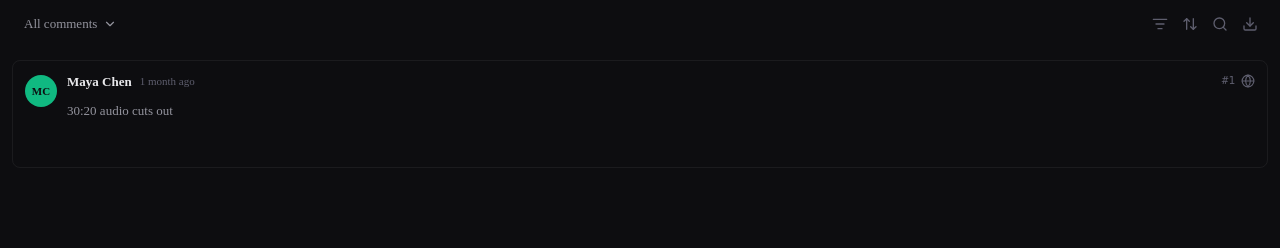
a failed comment export › shows the reason in the panel instead of the console
Click the button titled "Export comments" at (1250, 24), box [1236,10,1264,38]
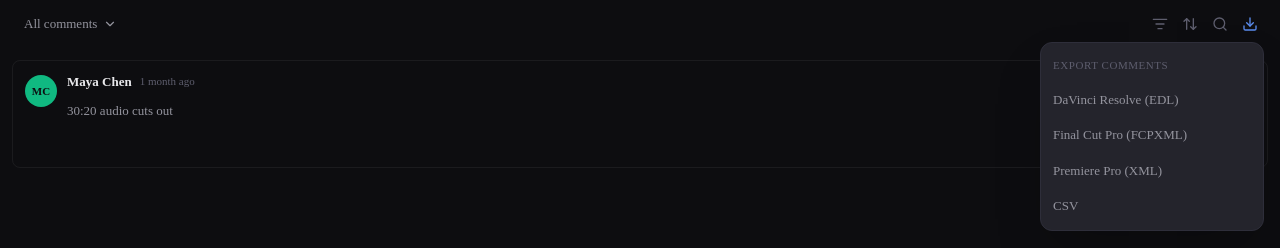
Click the button "DaVinci Resolve (EDL)" at (1152, 99), box [1041,82,1263,117]
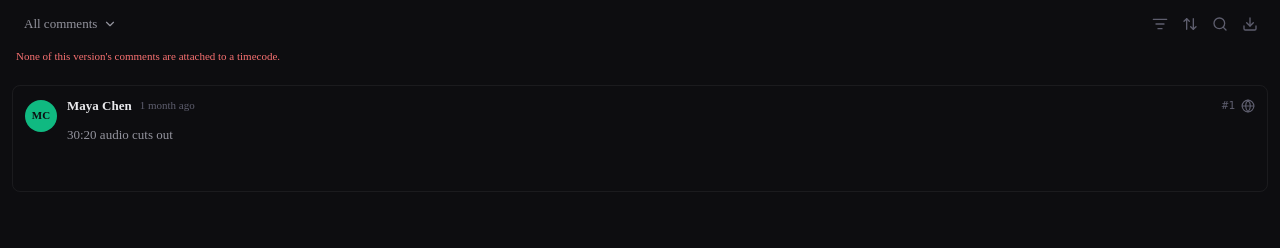
Now the text "None of this version's comments are attached to a timecode." is shown, box [16,50,280,62]
